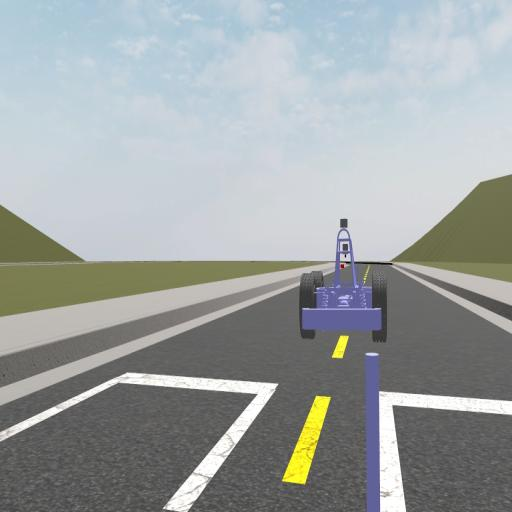ERP-42: (299, 218, 388, 341)
